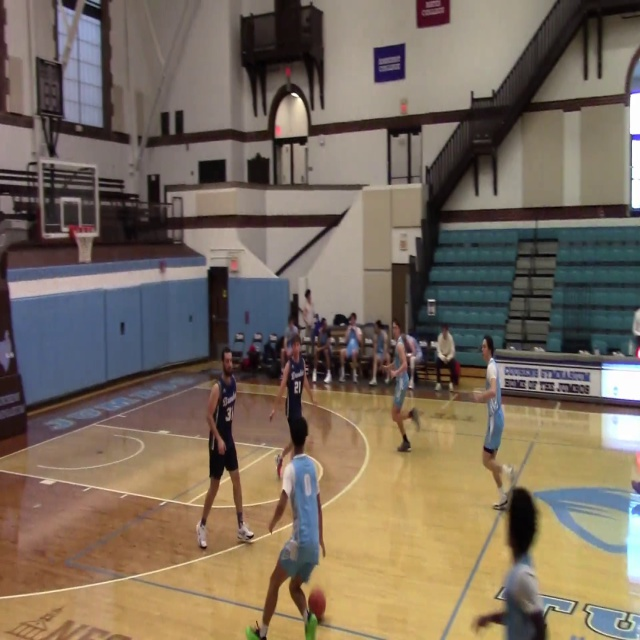Basketball: (307, 588, 326, 620)
